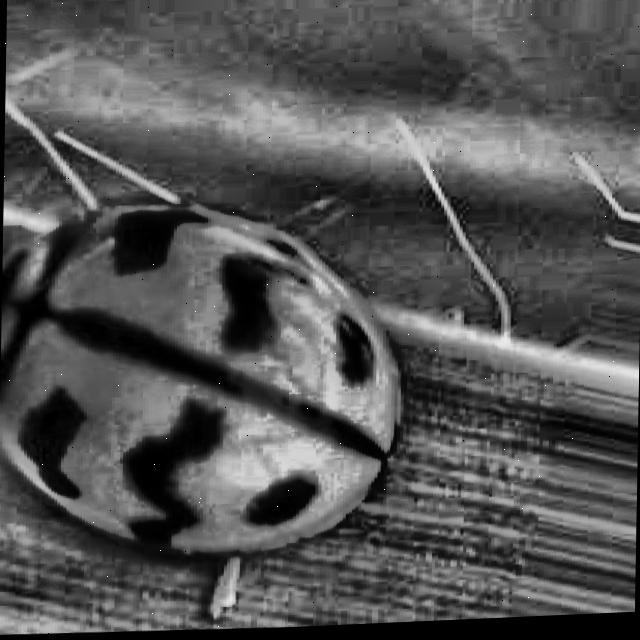Asian-Lady-beetle: (0, 163, 499, 620)
